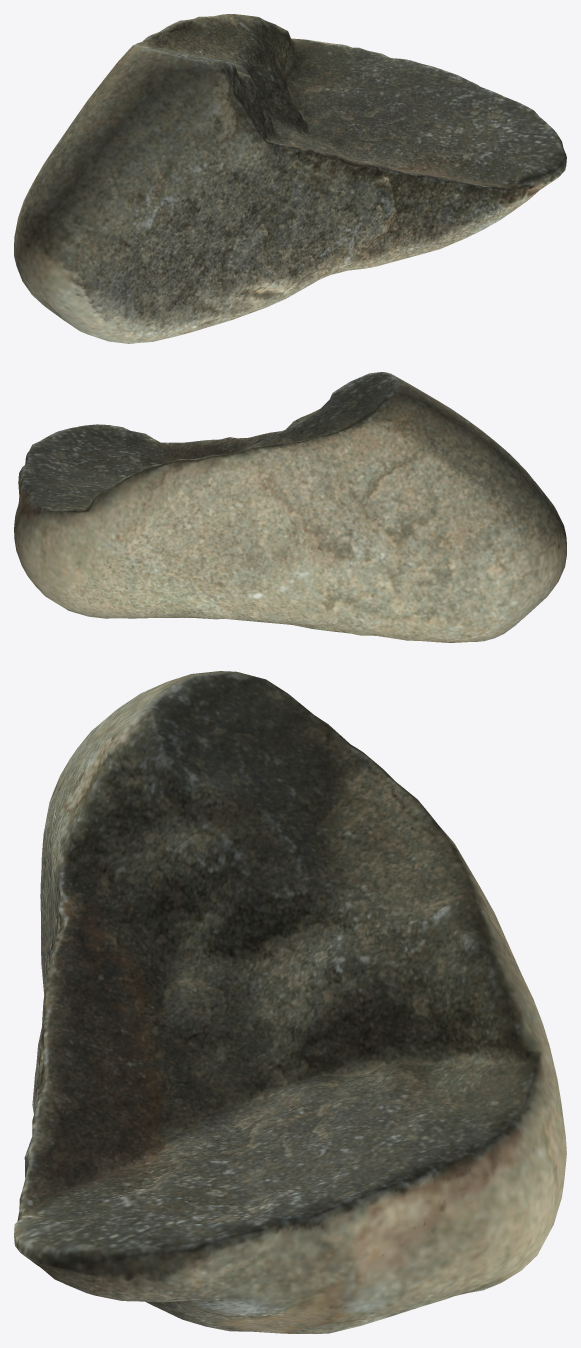
Rendered from sasso-scansionato.glb.
3 renders of one model, top to bottom at view 1: azimuth 30°, elevation 25°; view 2: azimuth 150°, elevation 25°; view 3: azimuth 270°, elevation 25°, orthographic. The views are drawn at different scales.
Visible parts, largest first — view 1: Object_5; view 2: Object_5; view 3: Object_5.
Boxes of the visible parts, x1,y1,x2,y2 form: Object_5: [14, 14, 566, 343]; Object_5: [14, 372, 566, 642]; Object_5: [14, 671, 566, 1333].
Bounding box in the file's own units: 0.124 × 0.0578 × 0.0658.
1 material, 1 textured.
